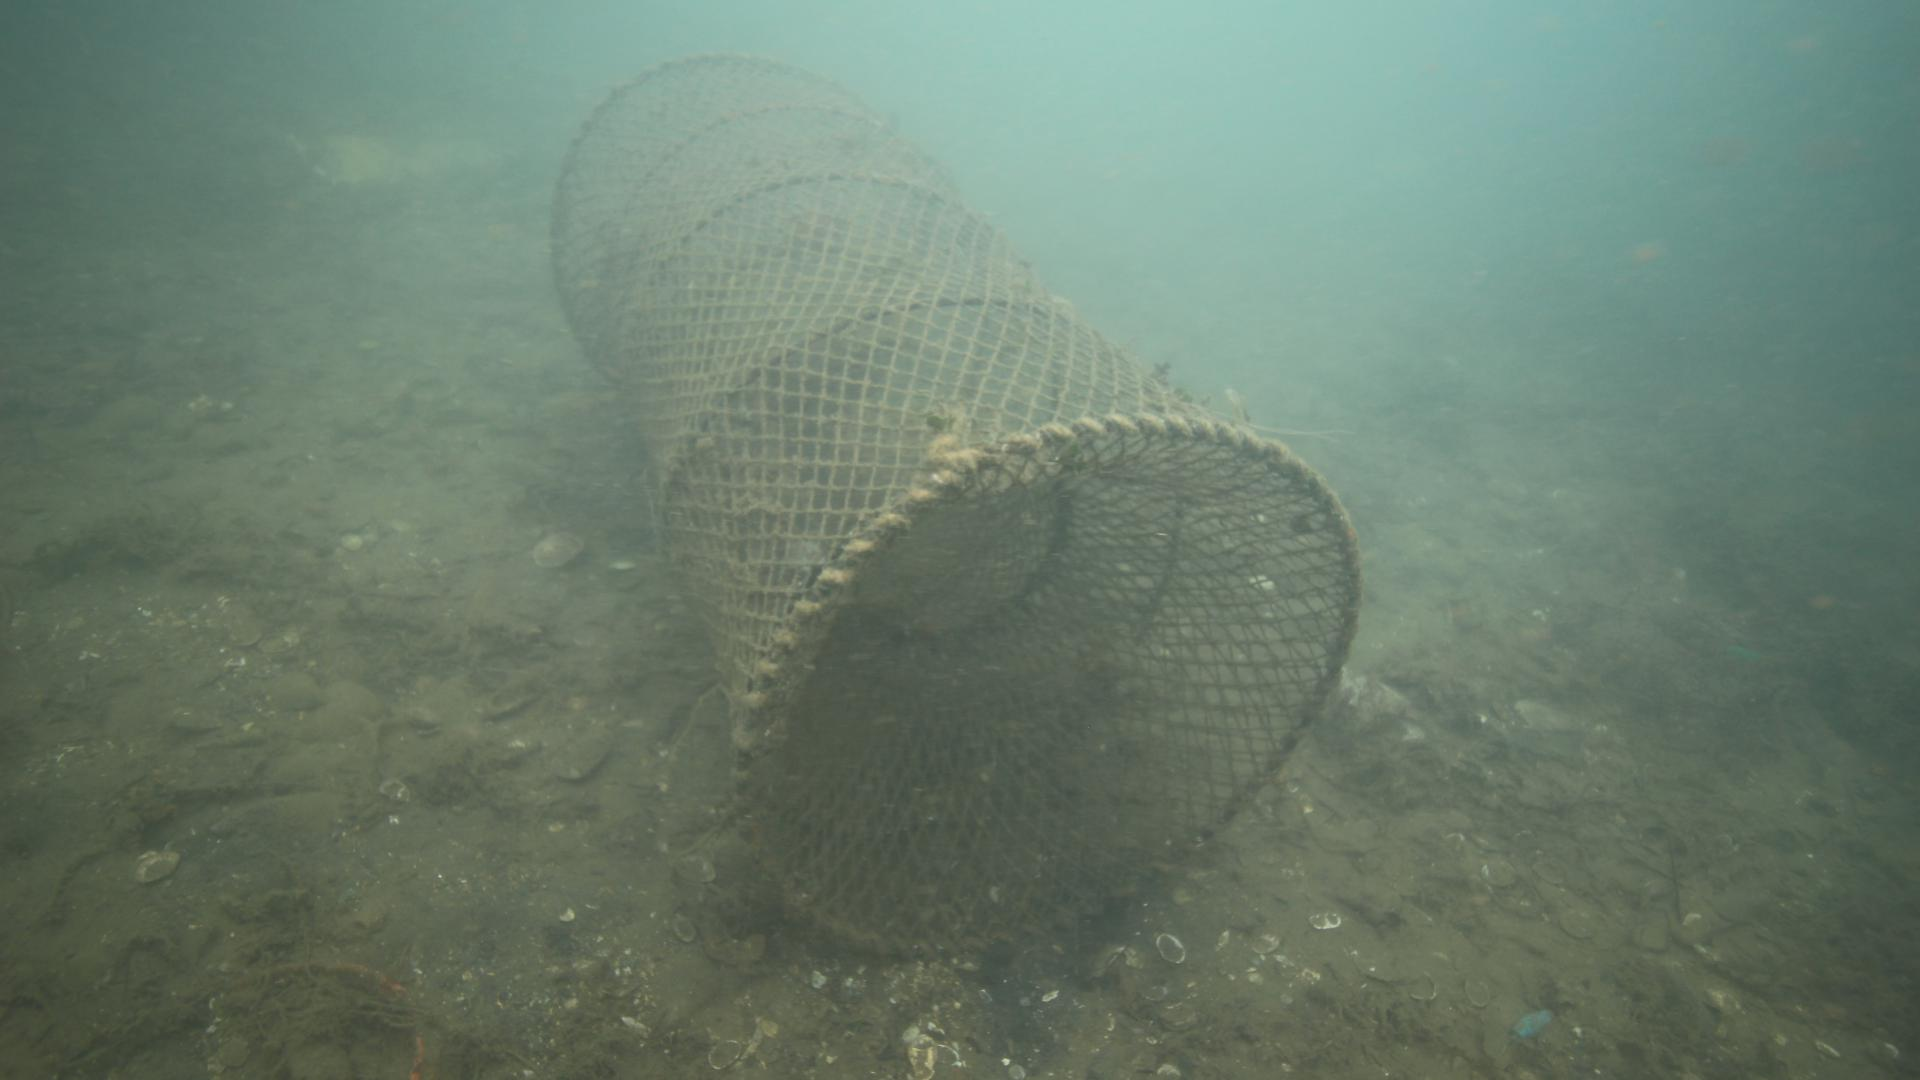spring fish trap: (547, 49, 1360, 964)
